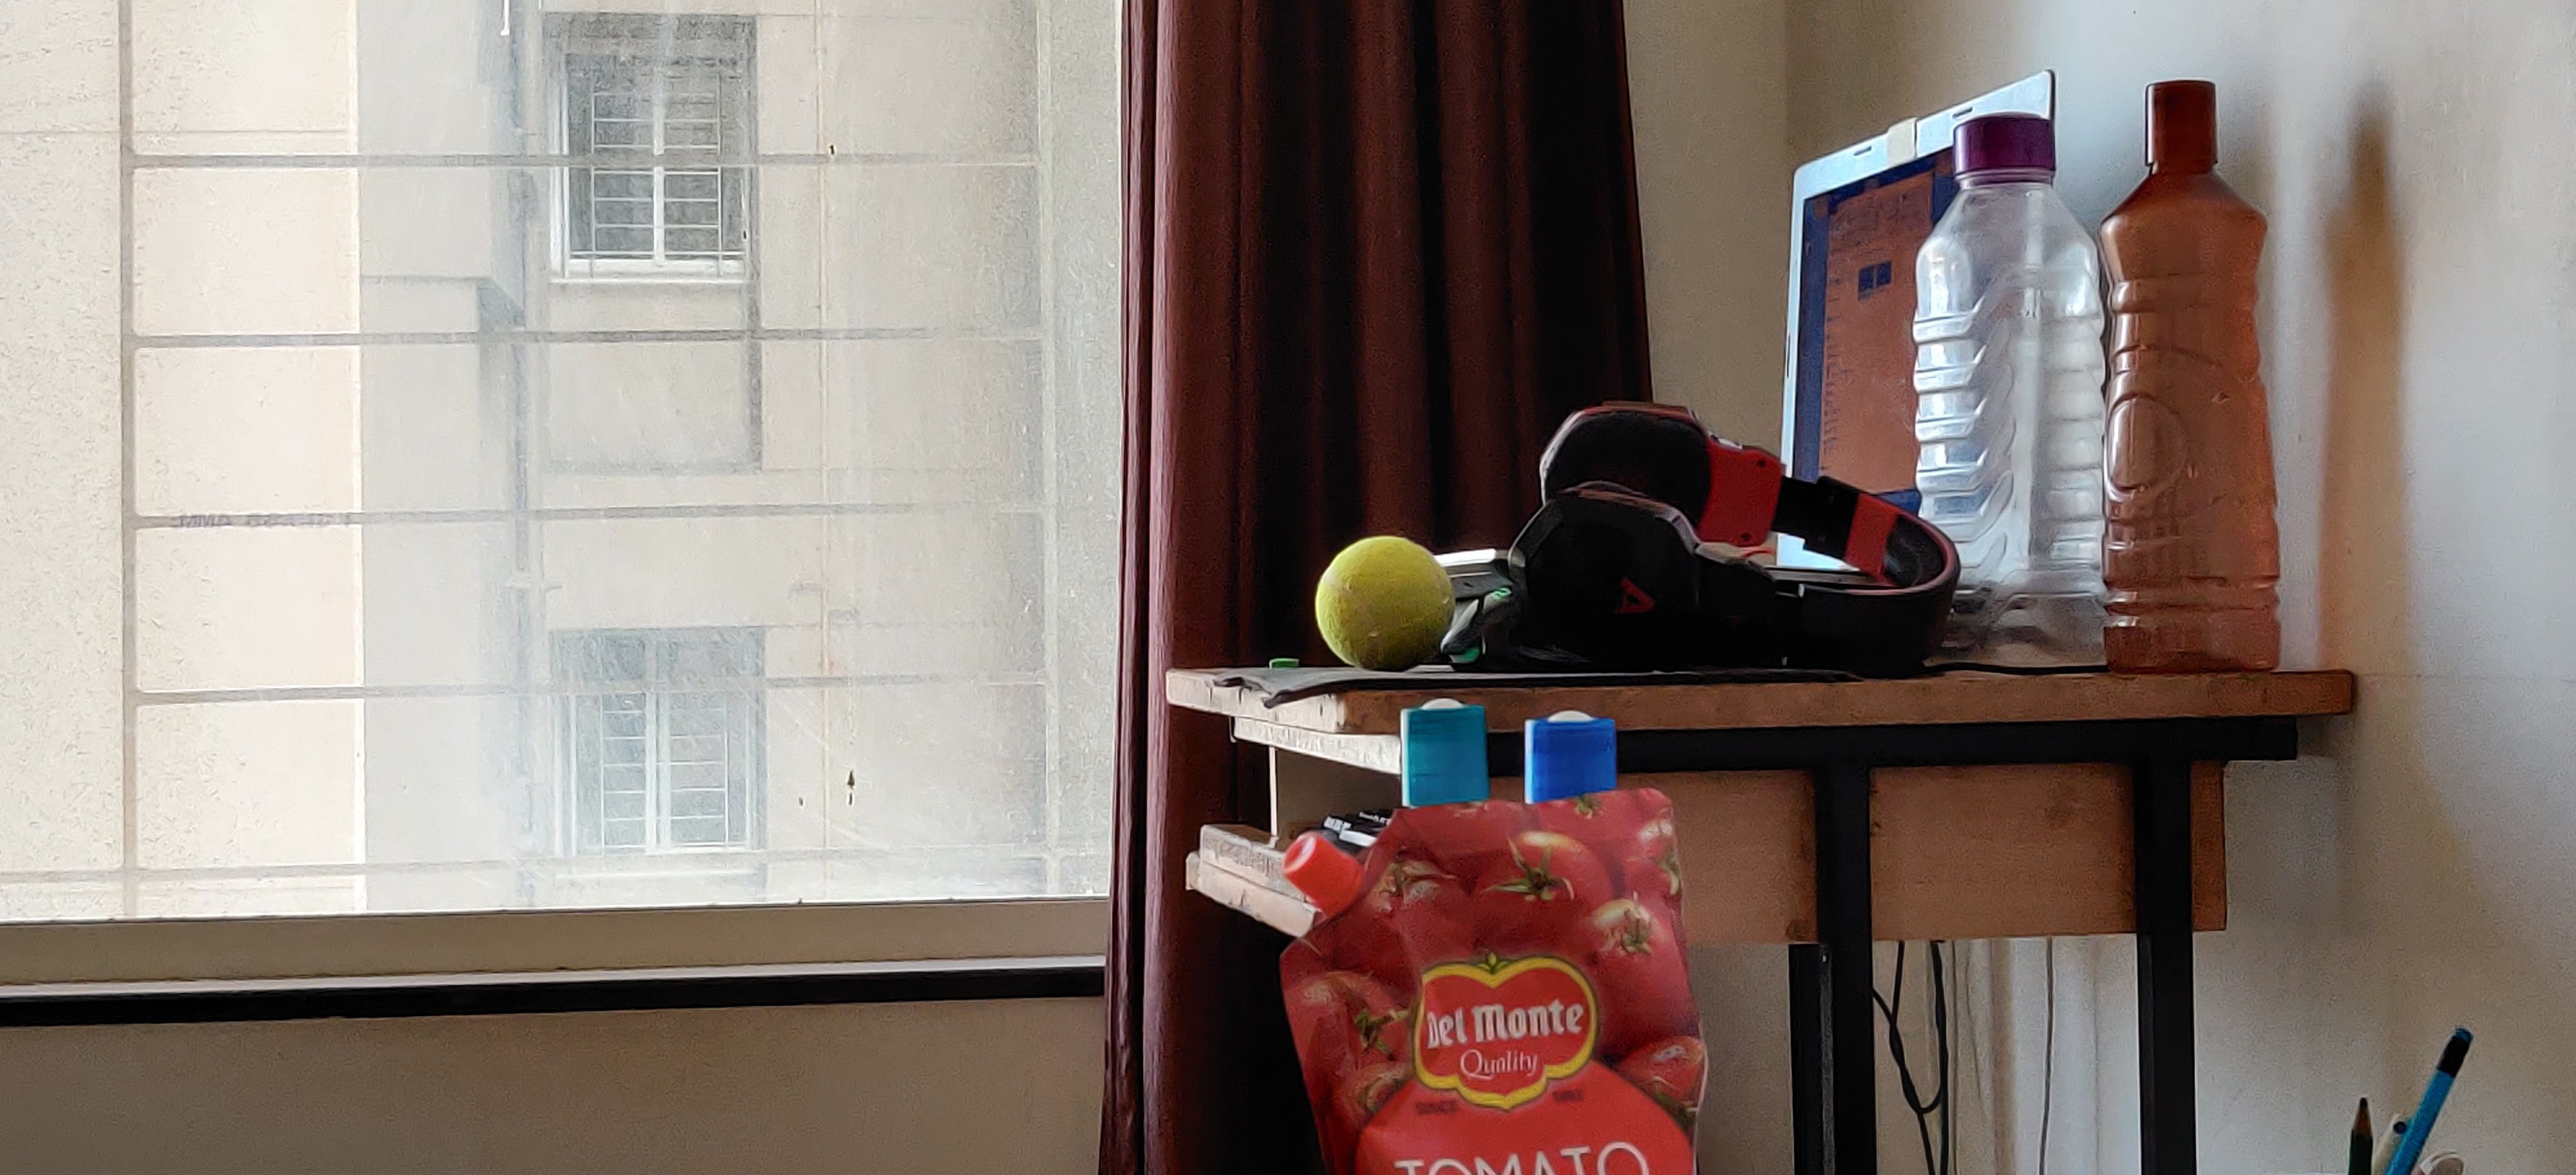Tennis-Ball: (1314, 536, 1456, 672)
